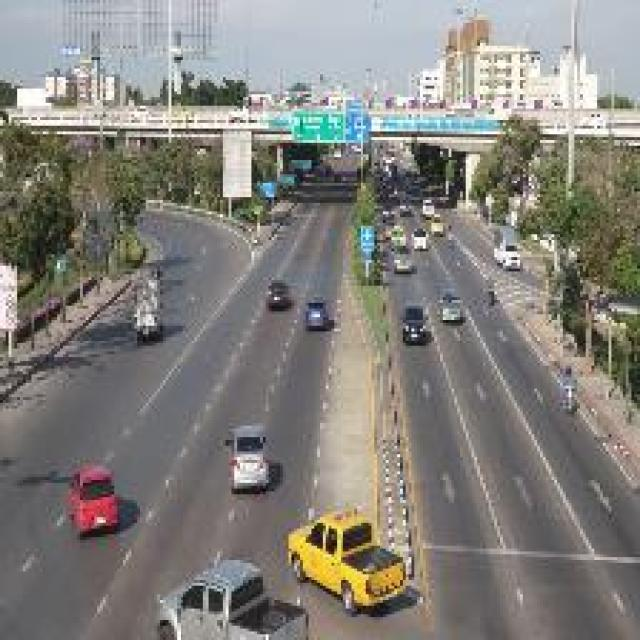other: (264, 510, 419, 611), (56, 453, 126, 538)
